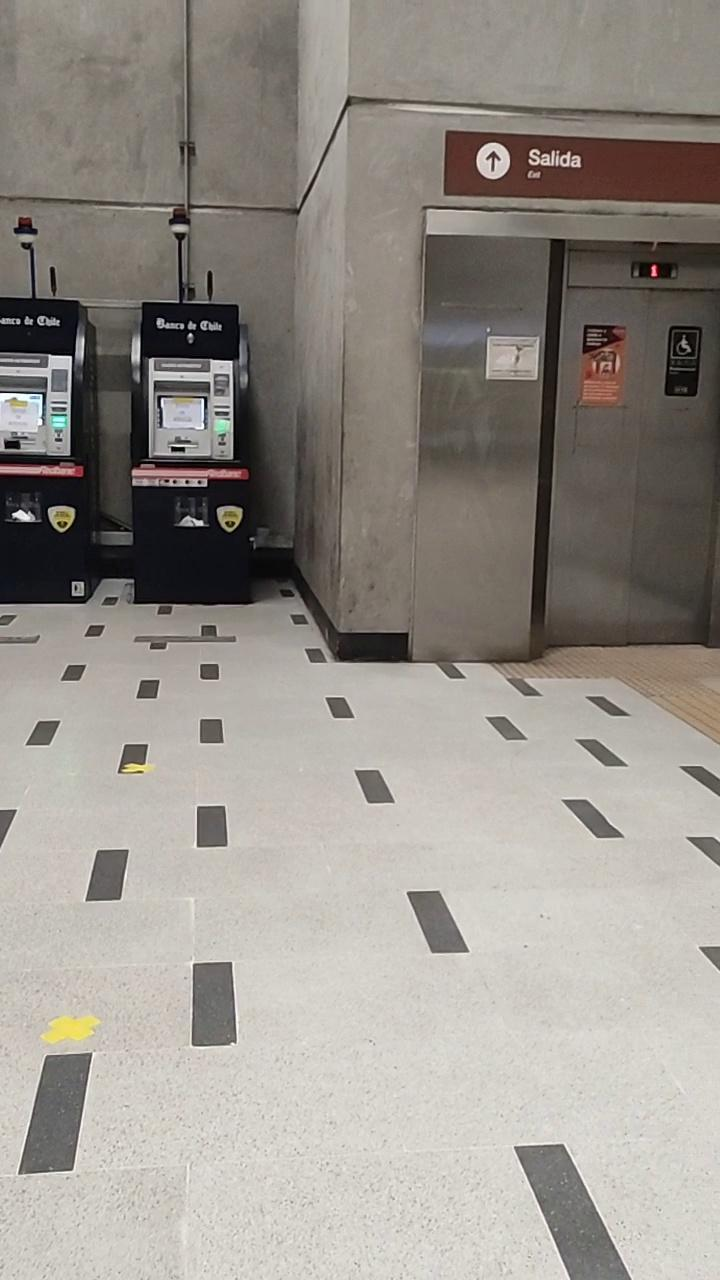up arrow: (480, 145, 509, 178)
